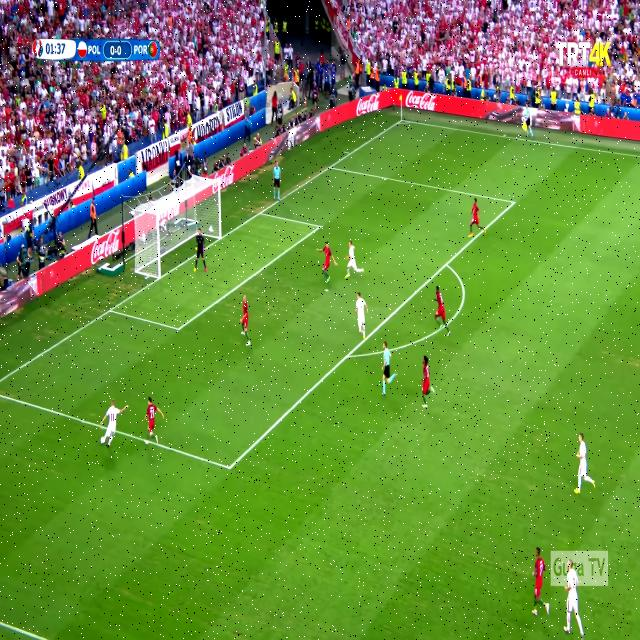Ball: (100, 434, 106, 446)
GoalKeeper: (195, 227, 208, 271)
TEAM 1: (530, 544, 554, 622), (429, 285, 462, 338), (316, 240, 338, 298), (415, 354, 437, 412), (144, 394, 166, 449), (466, 193, 488, 240), (238, 295, 254, 349)
TEAM 2: (564, 560, 593, 639), (571, 430, 601, 496), (101, 398, 128, 450), (352, 292, 374, 342), (344, 241, 366, 280)
